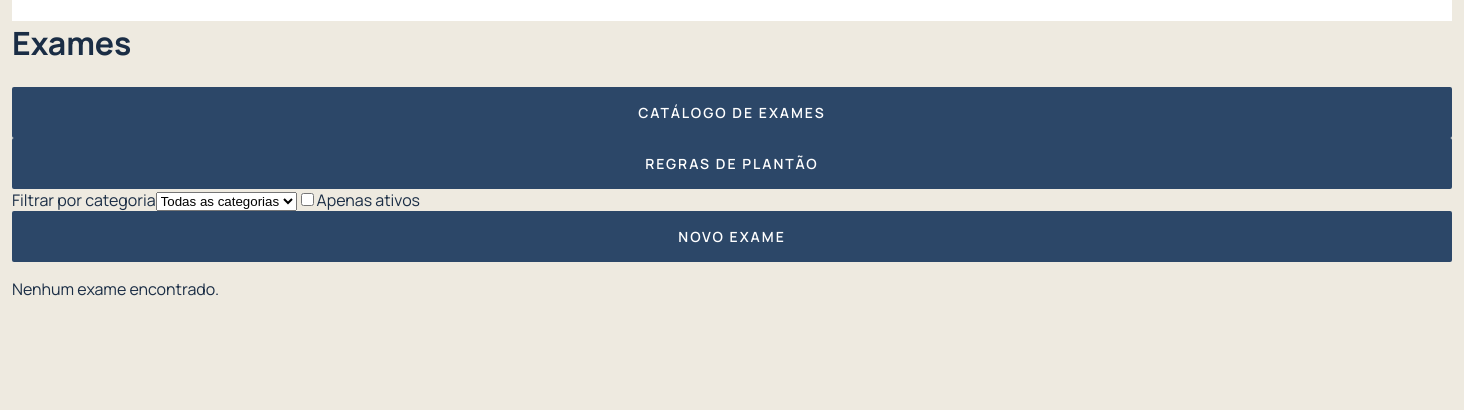
it: TelaExames › aba "Regras de Plantão" lista as regras e só admin vê "Nova regra"
Click the button "Regras de Plantão": (732, 163) [12, 138, 1452, 189]
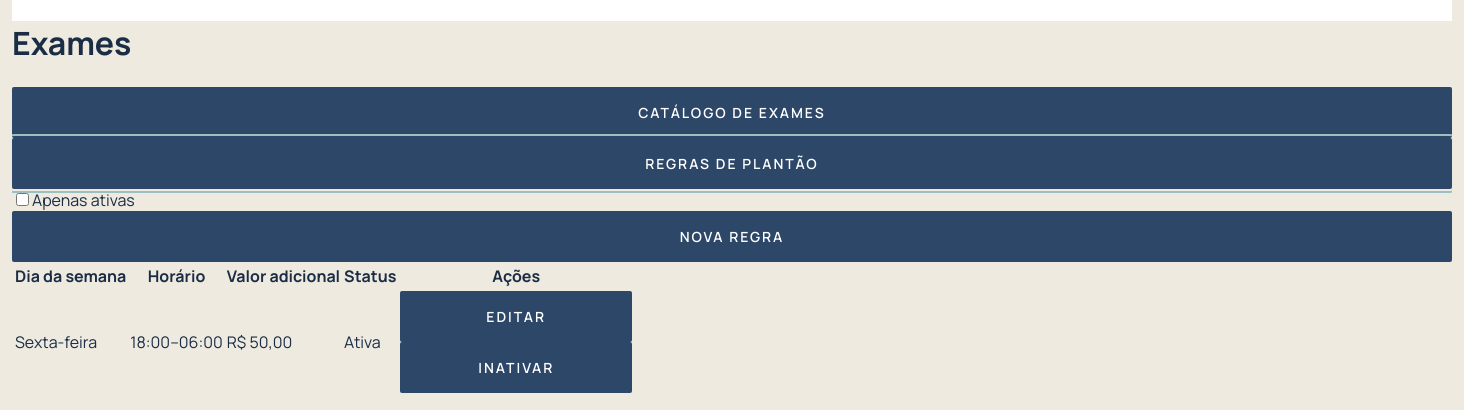
Expected: the button "Nova regra" is shown, [12, 211, 1452, 262]
